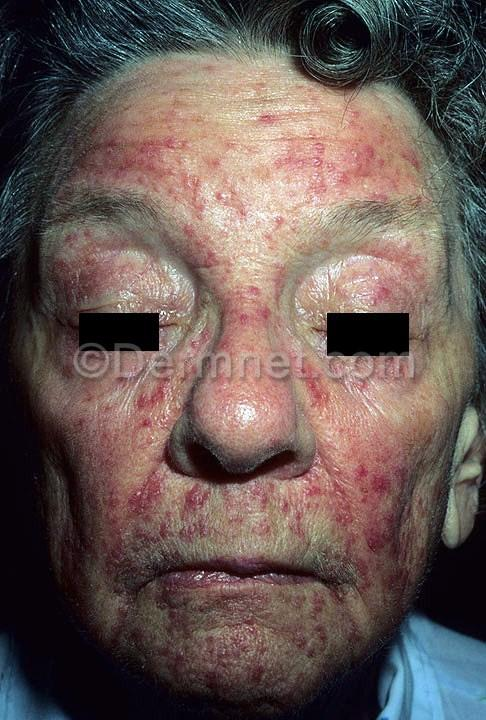Acne: (318, 412, 424, 578), (34, 128, 206, 190), (110, 448, 218, 534), (276, 140, 390, 194), (128, 376, 170, 444)
